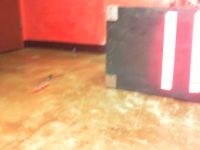switch: (159, 12, 178, 91), (188, 10, 199, 93)
